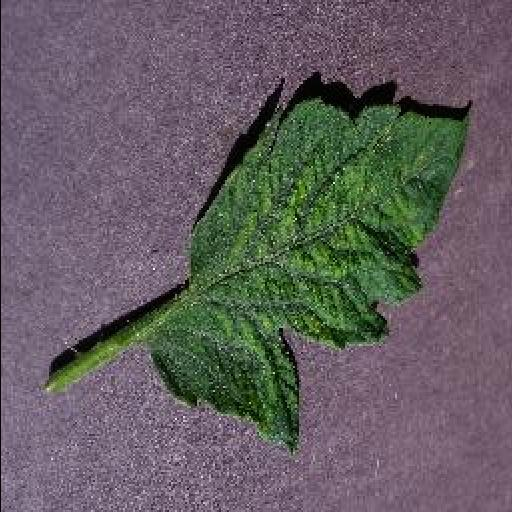disease_tomato: (144, 89, 476, 455)
